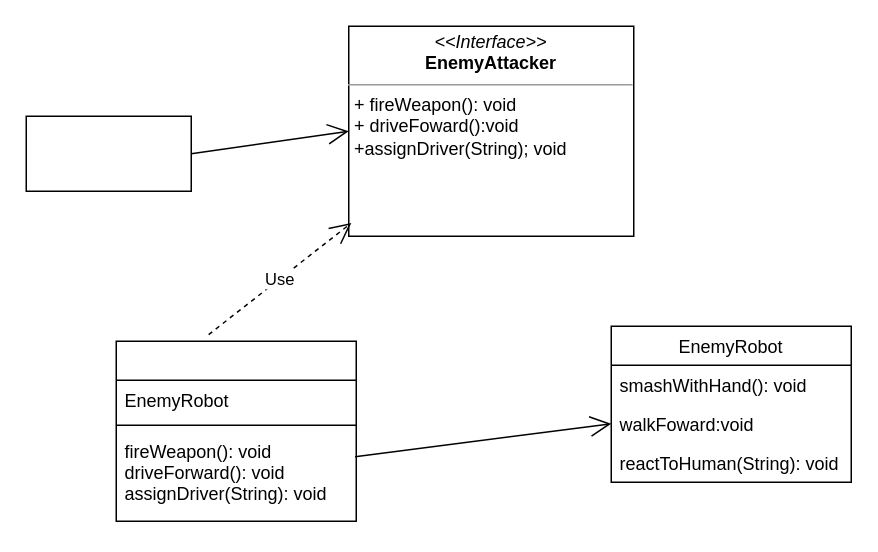
Some shapes in this 878 by 552 pixel diagram are drawn without their labels. Here are the shapes that lost their labels. From the top down, the box of each, then its label:
(25, 115, 191, 191): Client
(115, 340, 356, 521): EnemyRobotAdapter
